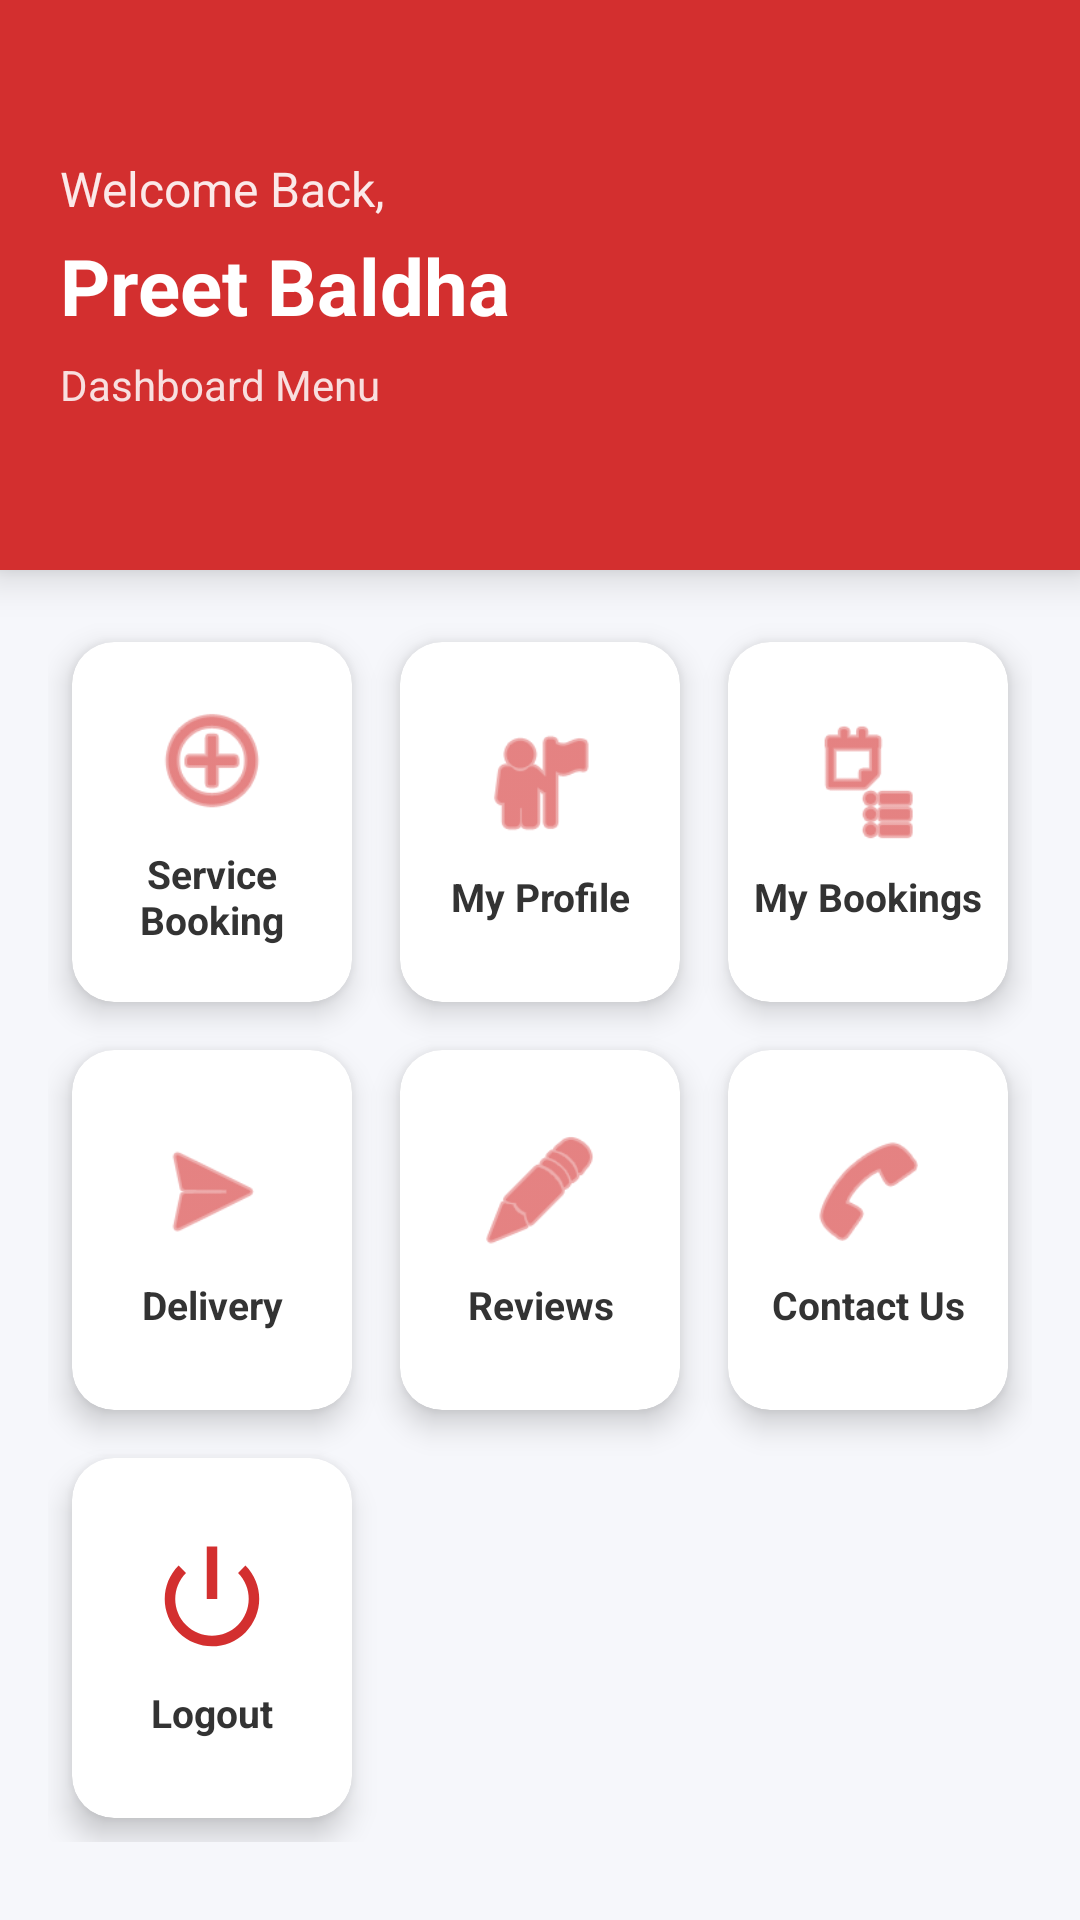

Point at icon controls on the screen. Image size 1080×1920, points as point (x, y).
add: point (212, 760)
agenda: point (868, 782)
call: point (868, 1191)
edit: point (539, 1190)
lock power off: point (212, 1596)
myplaces: point (541, 783)
send: point (213, 1192)
